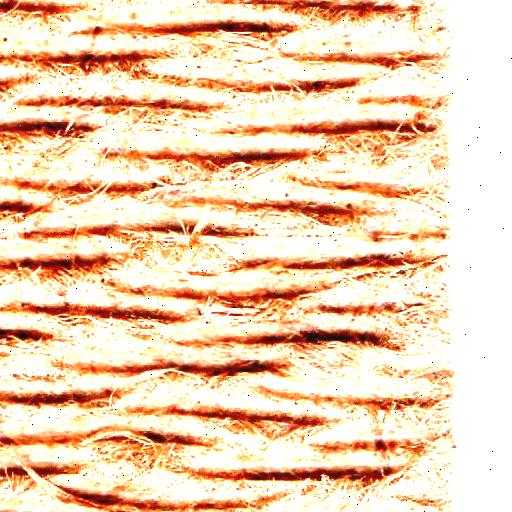egg: (141, 429, 167, 446)
